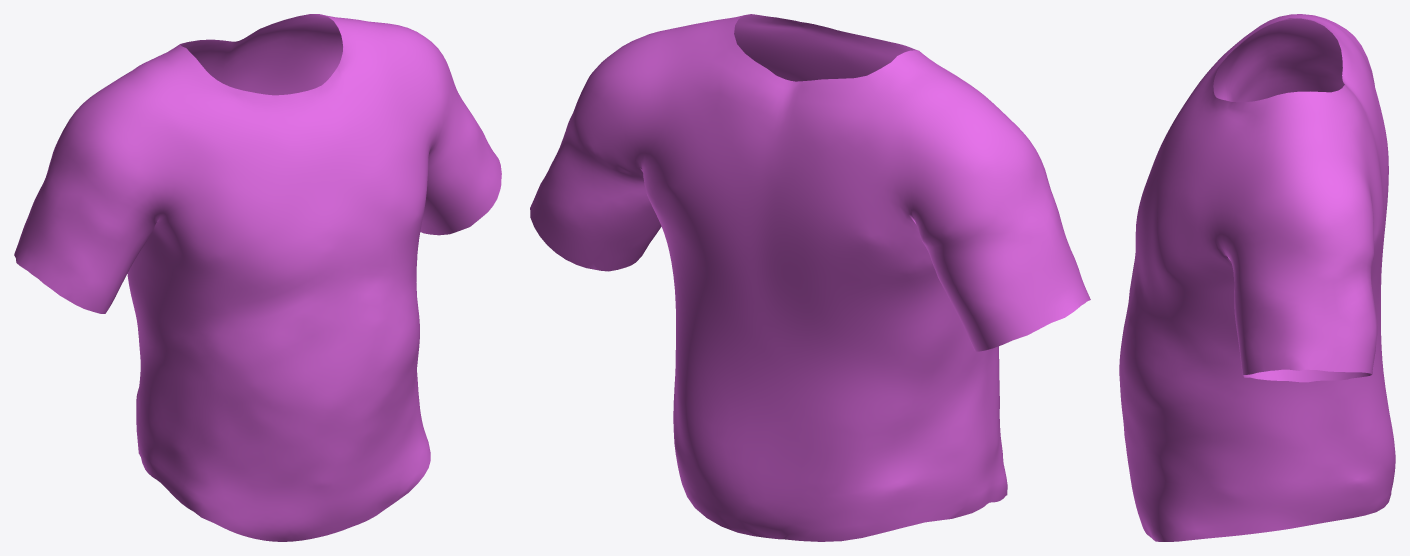
File: Male-XXX-Large-Tshirt.glb
The picture shows the model from 3 angles, left to right: view 1: azimuth 30°, elevation 25°; view 2: azimuth 150°, elevation 25°; view 3: azimuth 270°, elevation 25°; orthographic projection. The views are drawn at different scales.
Visible parts, largest first — view 1: Group1.014; view 2: Group1.014; view 3: Group1.014.
Boxes of the visible parts, x1,y1,x2,y2 form: Group1.014: [14, 14, 501, 541]; Group1.014: [530, 14, 1090, 541]; Group1.014: [1119, 14, 1395, 541].
Bounding box in the file's own units: 1.41 × 1.27 × 0.6898.
